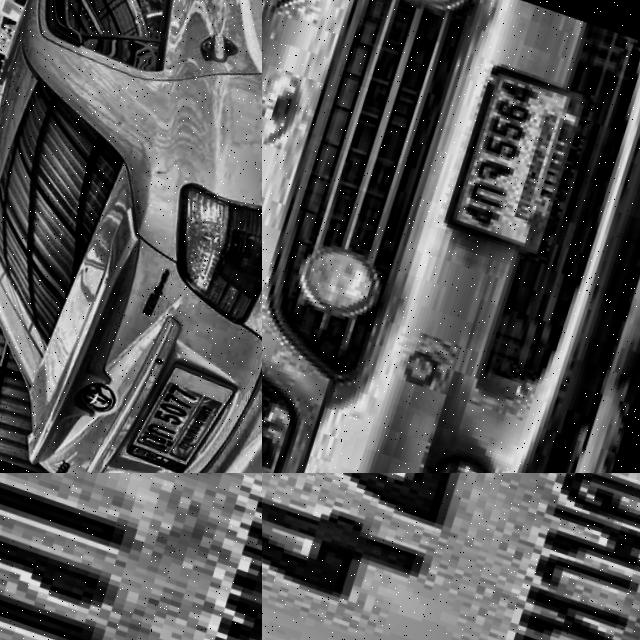license-plate: (262, 473, 640, 640), (0, 473, 262, 640), (438, 47, 591, 249), (115, 331, 260, 473)
